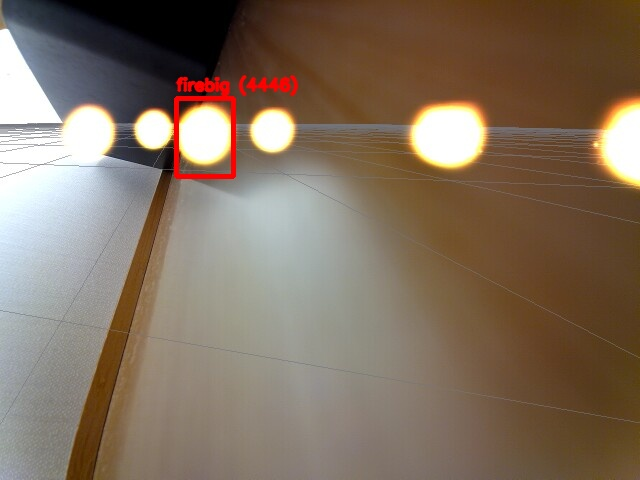firebig: (176, 98, 233, 176)
